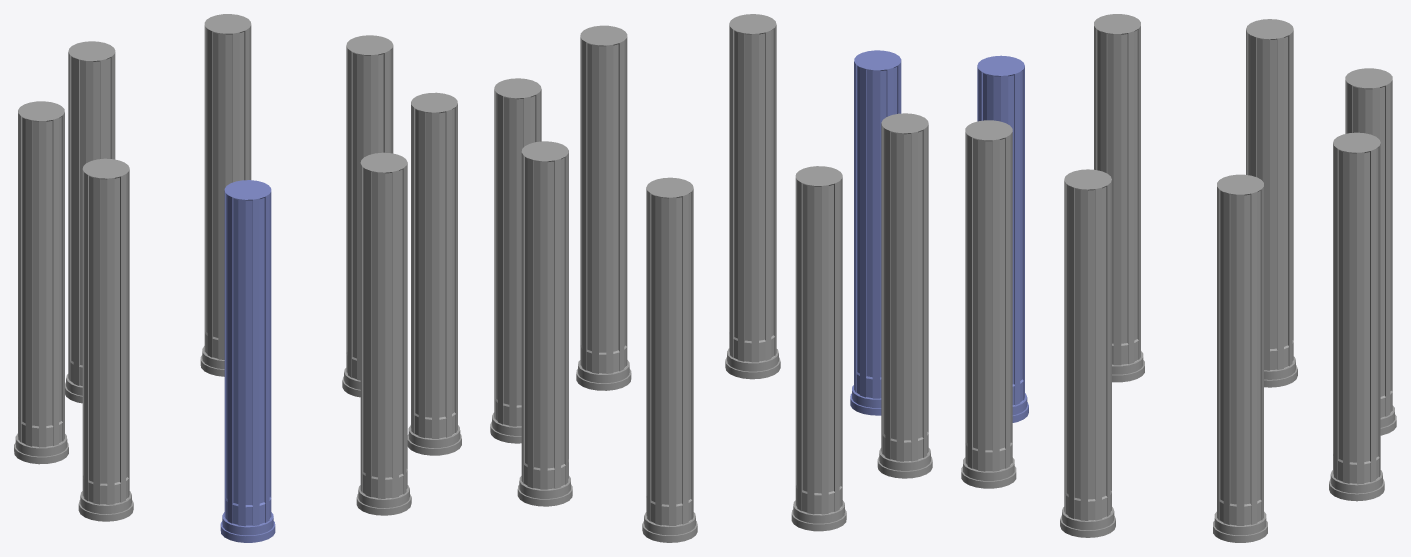
Rendered from SM_Pillar.fbx.
3 views of the same model, side by side, from view 1: azimuth 30°, elevation 25°; view 2: azimuth 150°, elevation 25°; view 3: azimuth 270°, elevation 25° (orthographic).
Visible parts, largest first — view 1: pCylinder9, pCylinder3, SM_Pillar, pCylinder4, pCylinder8, pCylinder6, pCylinder5, pCylinder7; view 2: pCylinder9, pCylinder4, pCylinder8, pCylinder6, pCylinder7, pCylinder3, SM_Pillar, pCylinder5; view 3: pCylinder4, pCylinder6, pCylinder3, pCylinder5, pCylinder8, pCylinder9, SM_Pillar, pCylinder7.
Part boxes in pixels (x1,y1,x2,y2): pCylinder9: (78, 158, 133, 521); pCylinder3: (356, 152, 411, 515); SM_Pillar: (220, 180, 275, 542); pCylinder4: (407, 92, 461, 455); pCylinder8: (14, 101, 68, 464); pCylinder6: (200, 14, 251, 376); pCylinder5: (342, 35, 393, 397); pCylinder7: (65, 41, 115, 403); pCylinder9: (877, 113, 932, 478); pCylinder4: (576, 25, 631, 390); pCylinder8: (791, 166, 846, 531); pCylinder6: (517, 141, 572, 506); pCylinder7: (642, 177, 697, 542); pCylinder3: (725, 14, 780, 379); SM_Pillar: (850, 50, 901, 415); pCylinder5: (490, 78, 541, 443); pCylinder4: (1060, 169, 1115, 537); pCylinder6: (1329, 132, 1384, 501); pCylinder3: (961, 120, 1016, 488); pCylinder5: (1213, 174, 1267, 542); pCylinder8: (1246, 19, 1297, 387); pCylinder9: (1094, 14, 1144, 382); SM_Pillar: (977, 55, 1028, 422); pCylinder7: (1345, 68, 1396, 435).
Bounding box in the file's own units: 910 × 800 × 910.
